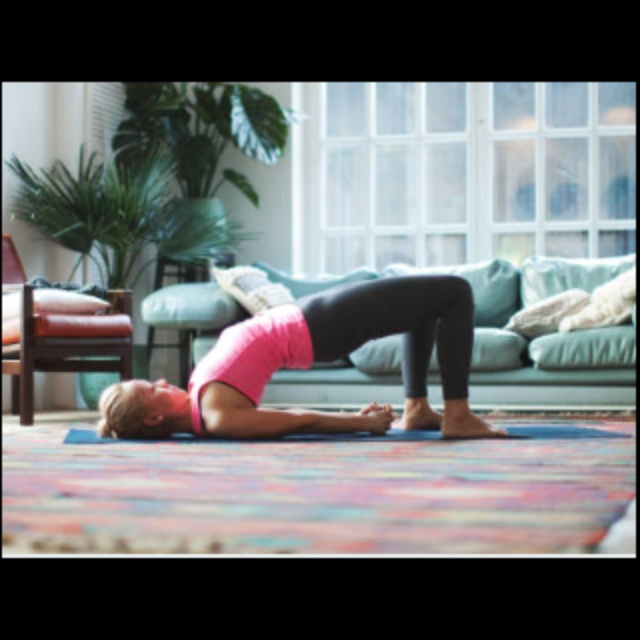Bridge_Pose: (83, 272, 524, 447)
